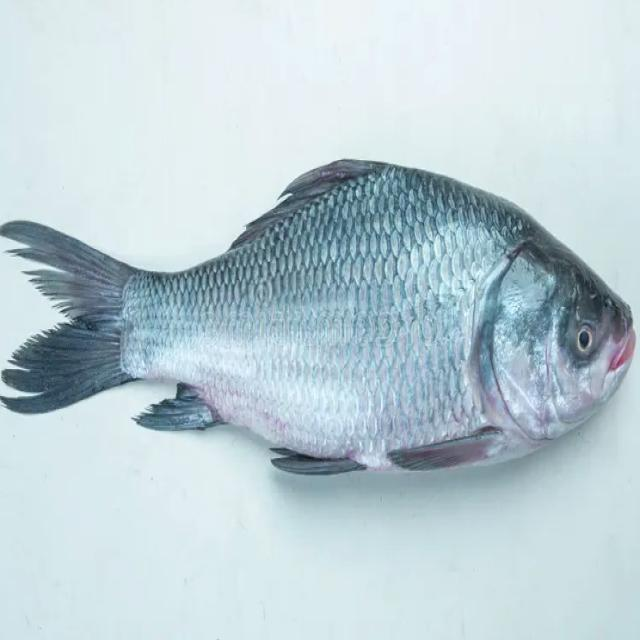Catla: (0, 159, 638, 476)
